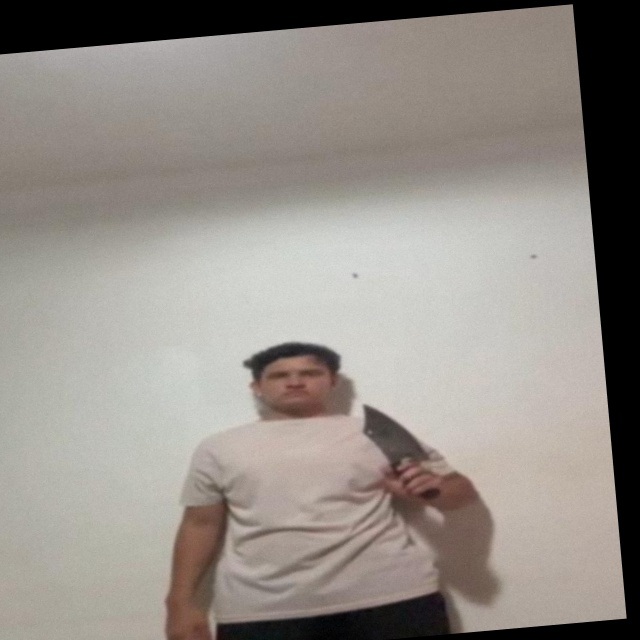Sharp-Object: (359, 402, 423, 463)
